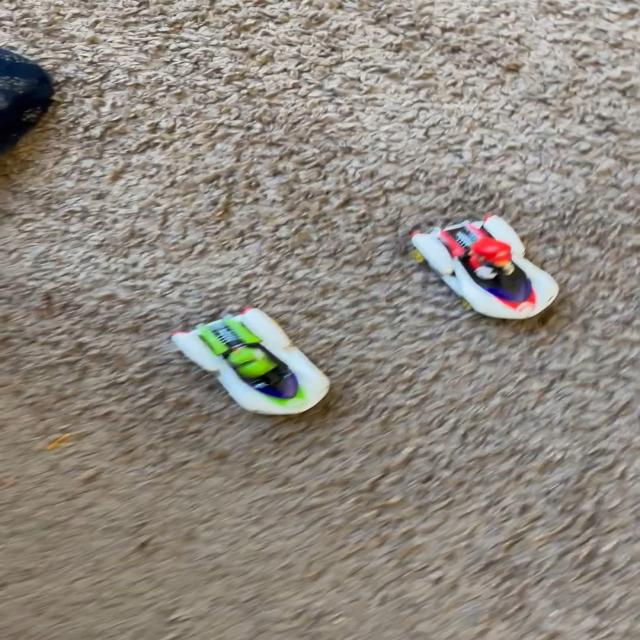mario: (397, 203, 577, 337)
yoshi: (163, 294, 347, 428)
